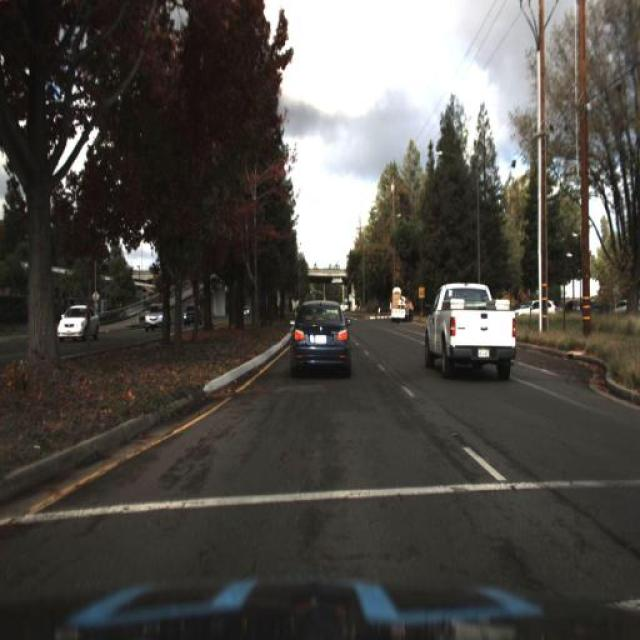car: (422, 272, 520, 383), (287, 298, 352, 382), (516, 284, 569, 330), (50, 300, 98, 340), (136, 293, 165, 338), (510, 296, 559, 320), (387, 285, 409, 321), (181, 302, 207, 329), (389, 288, 408, 324)
